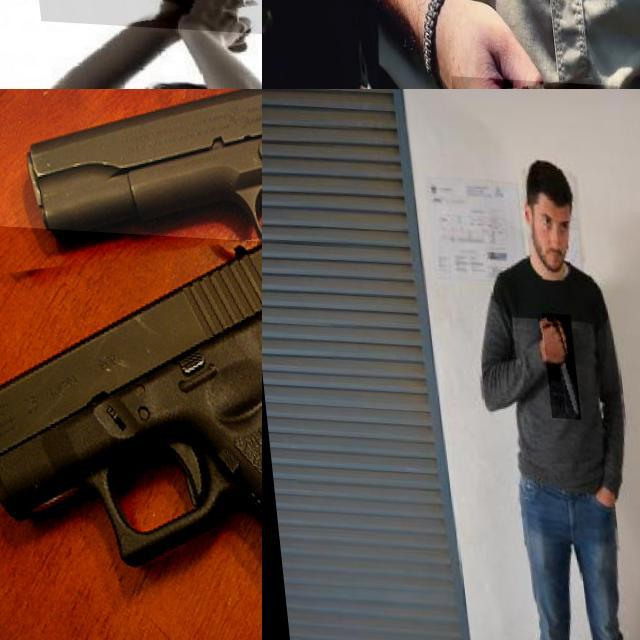-: (27, 0, 262, 70), (536, 309, 573, 416)
gun-knife-thesis - v11 Yolov5 augmented: (0, 222, 262, 640), (7, 89, 262, 410)
